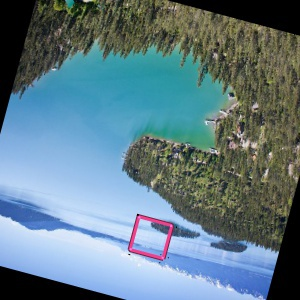square: (126, 211, 174, 262)
